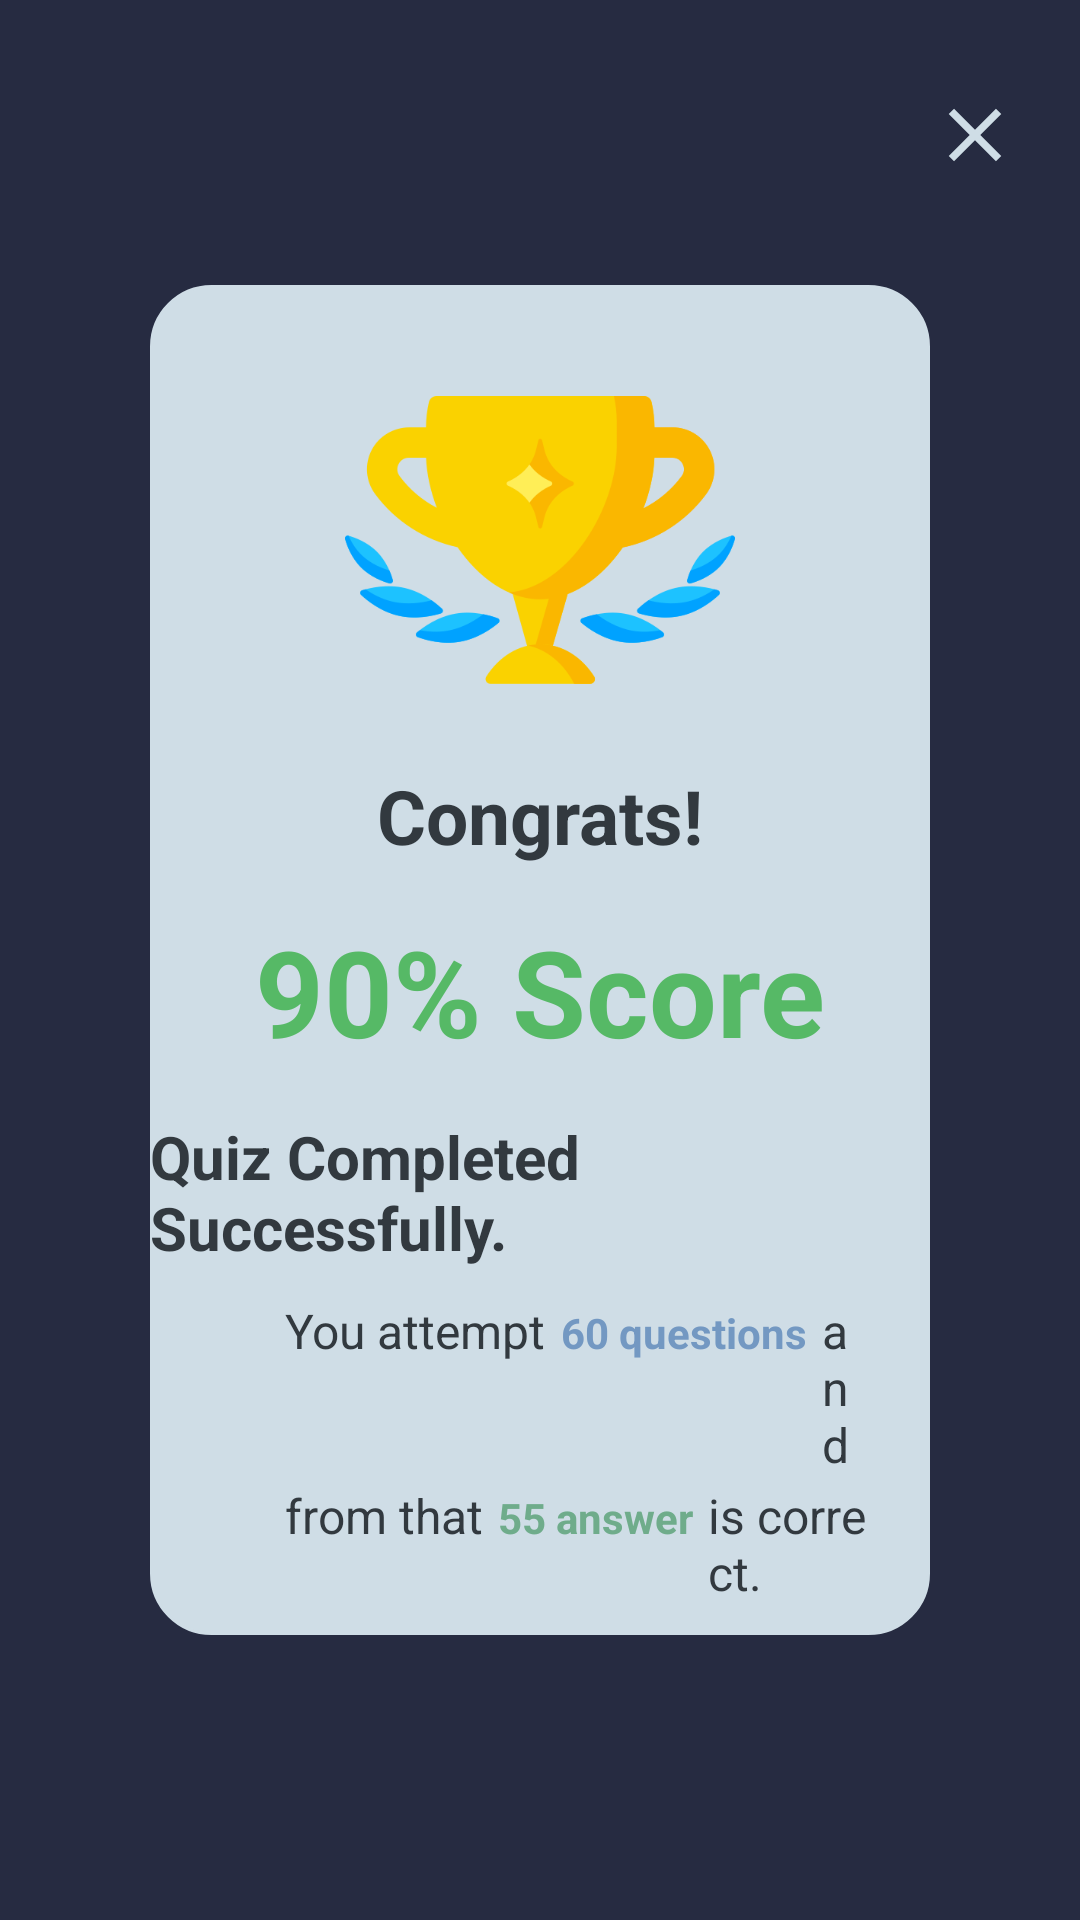

Screen size 1080×1920. Icon name, then its box in pixels as (x1,y1,x2,y2):
close: (949,109,1001,161)
